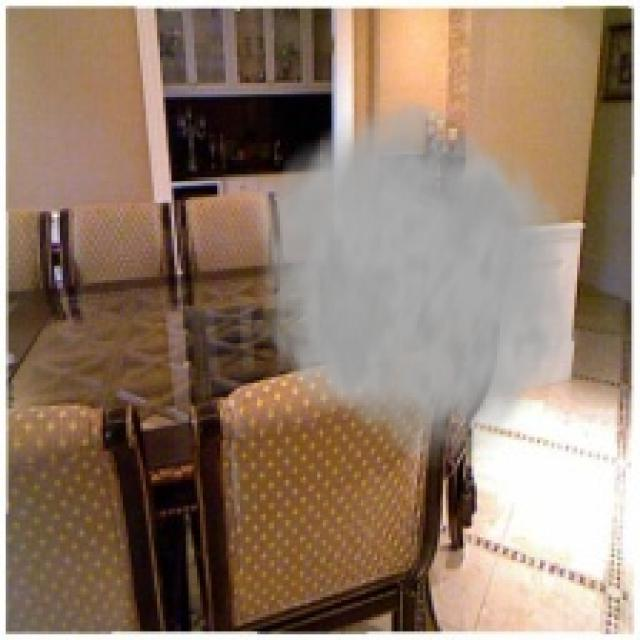smoke: (240, 86, 583, 477)
